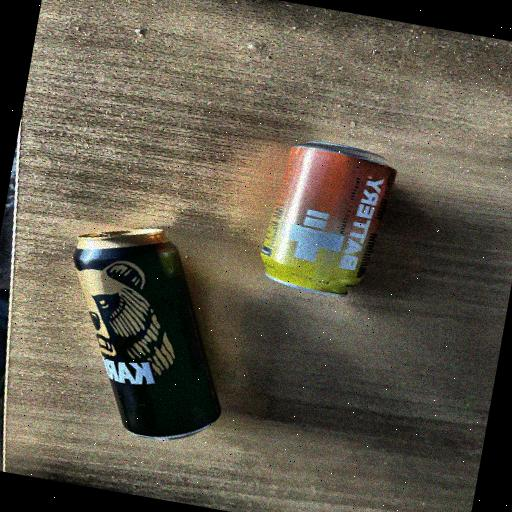karhu: (23, 200, 246, 463)
